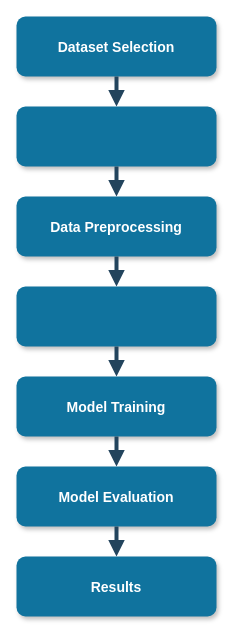
The diagram is 233 pixels wide and 633 high, and some of its shapes have lost their labels. Here are the shapes that lost their labels. From the top down, the centre of each, then its label:
At (x=117, y=137): "Data Loading".
At (x=117, y=317): "Test Split".
